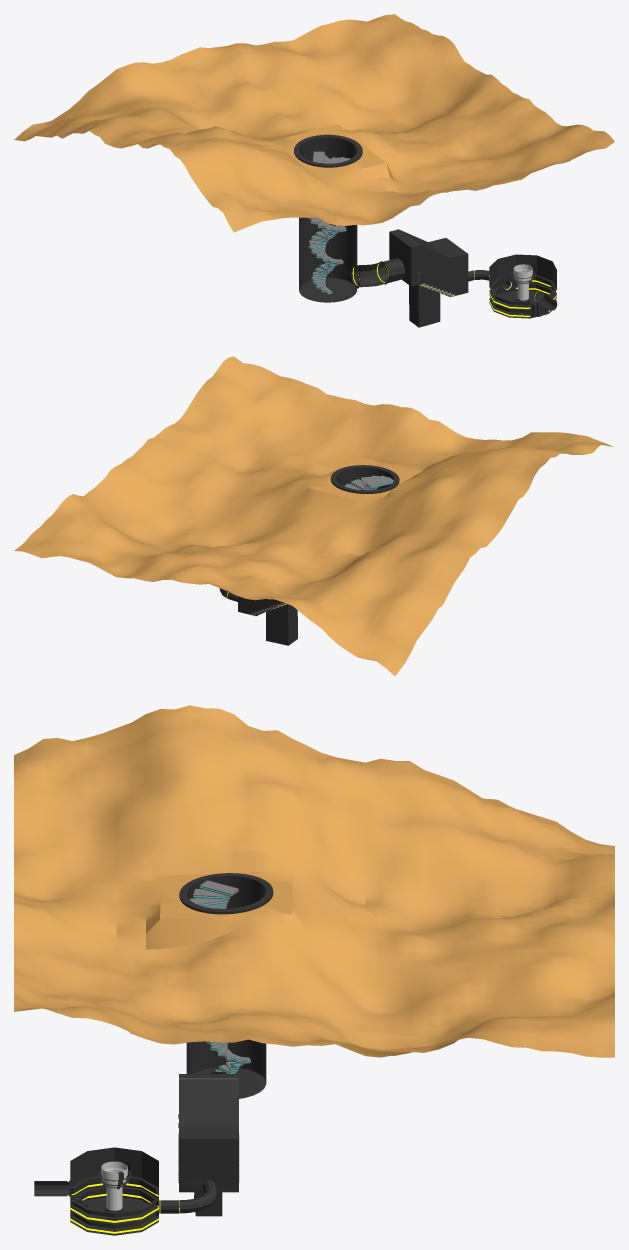
Rendered from Nivel 2 prueba.fbx.
The picture shows the model from 3 angles, top to bottom: view 1: azimuth 30°, elevation 25°; view 2: azimuth 150°, elevation 25°; view 3: azimuth 270°, elevation 25°; orthographic projection. The views are drawn at different scales.
Parts seen in each view (by area): view 1: Terreno Desierto, Entrada Base Enemigo, Escaleras de caracol; view 2: Terreno Desierto, Entrada Base Enemigo, Escaleras de caracol; view 3: Terreno Desierto, Entrada Base Enemigo, Escaleras de caracol.
Boxes of the visible parts, x1=… form: Terreno Desierto: x1=14, y1=14, x2=614, y2=302; Entrada Base Enemigo: x1=351, y1=229, x2=557, y2=327; Escaleras de caracol: x1=306, y1=151, x2=350, y2=294; Terreno Desierto: x1=14, y1=356, x2=613, y2=675; Entrada Base Enemigo: x1=219, y1=588, x2=297, y2=645; Escaleras de caracol: x1=344, y1=475, x2=393, y2=490; Terreno Desierto: x1=14, y1=705, x2=614, y2=1098; Entrada Base Enemigo: x1=34, y1=1071, x2=238, y2=1235; Escaleras de caracol: x1=189, y1=880, x2=250, y2=1073.
Size of the model in its own units: 4000 by 2419 by 4000.
